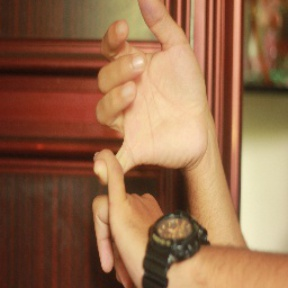S: (92, 1, 207, 286)
